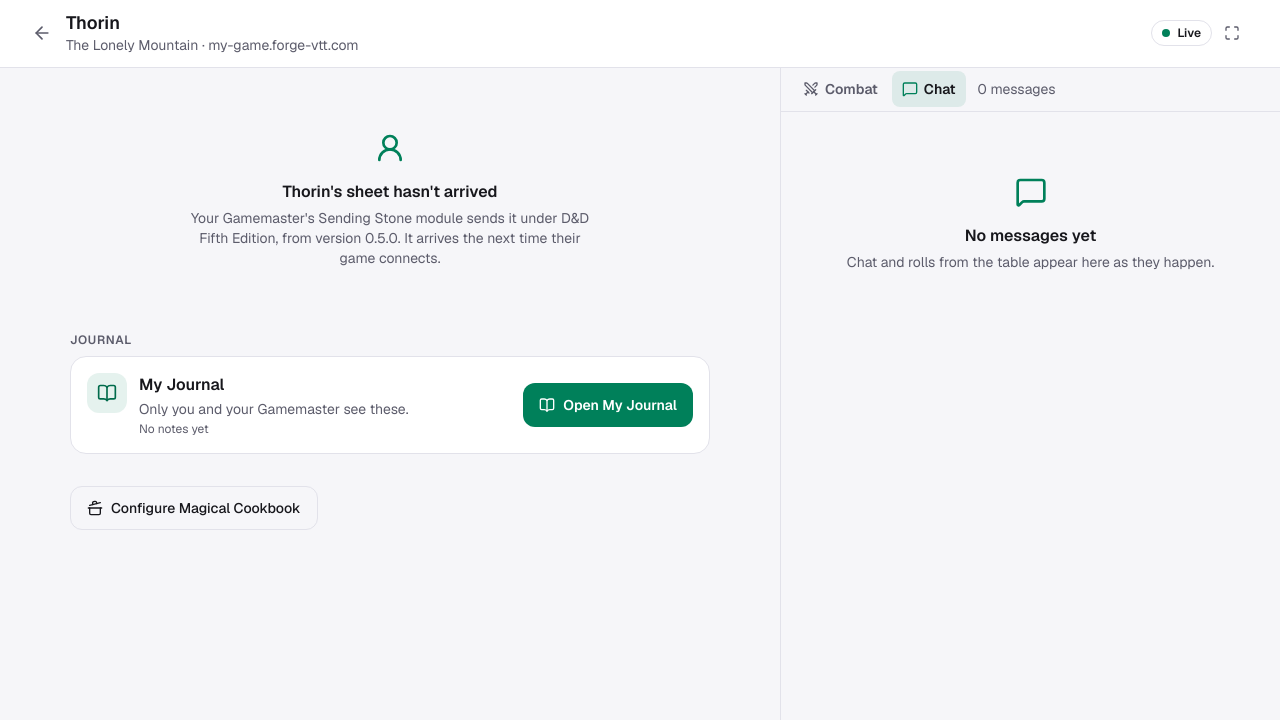
Test: components/game-table, the Magical Recipe Book (module 0.38.0), from the cog since round 0.39.0 › keeps the modal the no-sheet button opens open after a revoke while the game takes no dishes, on its off line with no Make button
The width and height of the screenshot is (1280, 720).
Click the button "Configure Magical Cookbook" at (194, 508), box [70, 486, 318, 530]
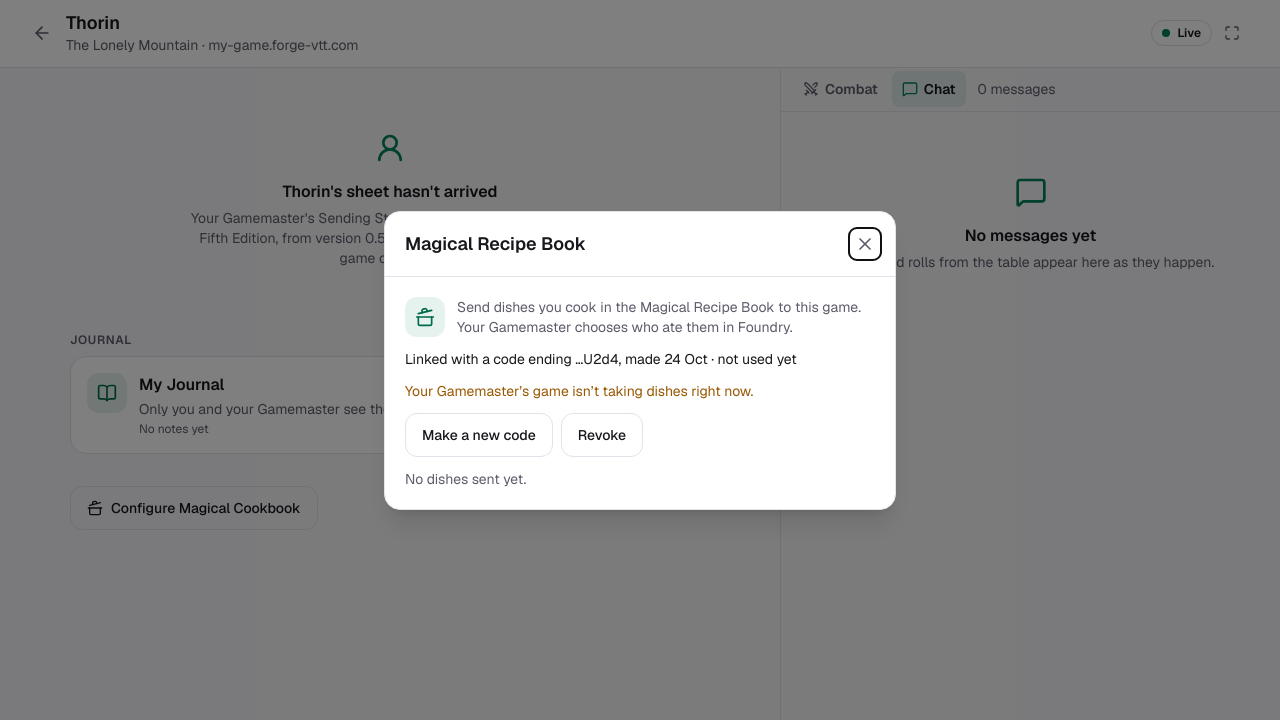
Click the button "Revoke" at (602, 434), box [561, 412, 643, 456]
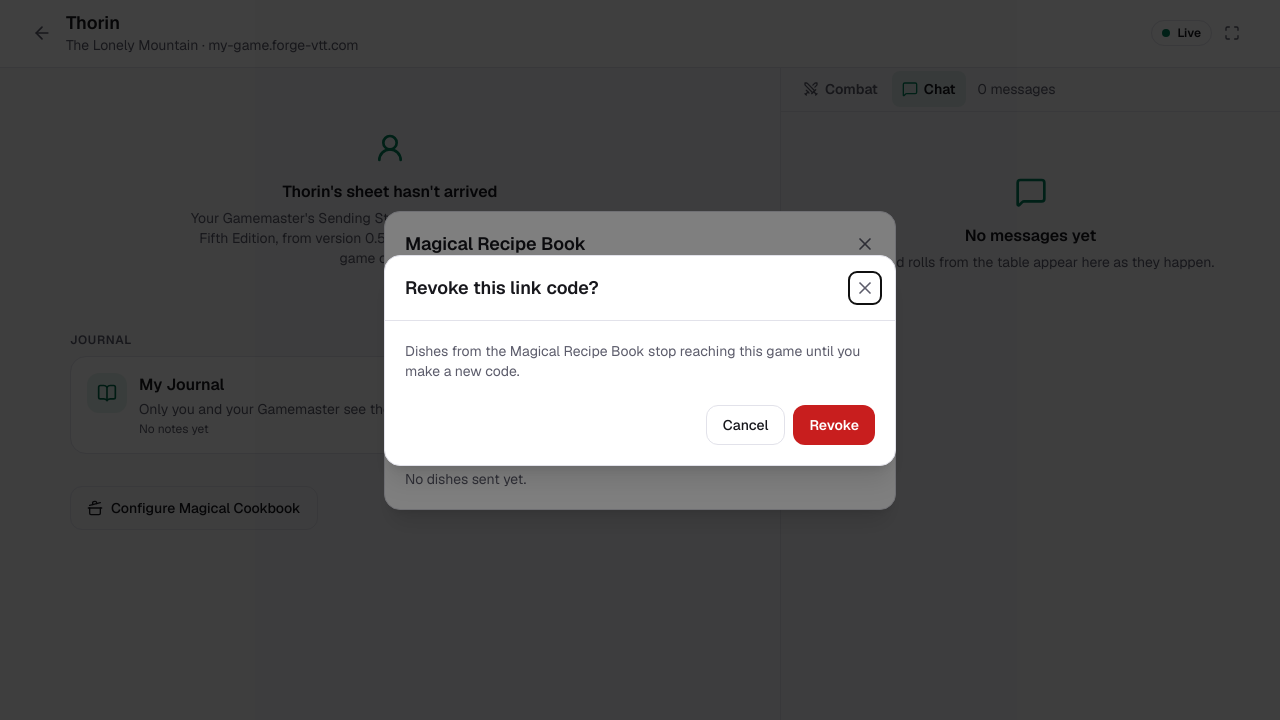
Click the button "Revoke" below "Revoke this link code?" at (834, 424), box [793, 404, 875, 444]
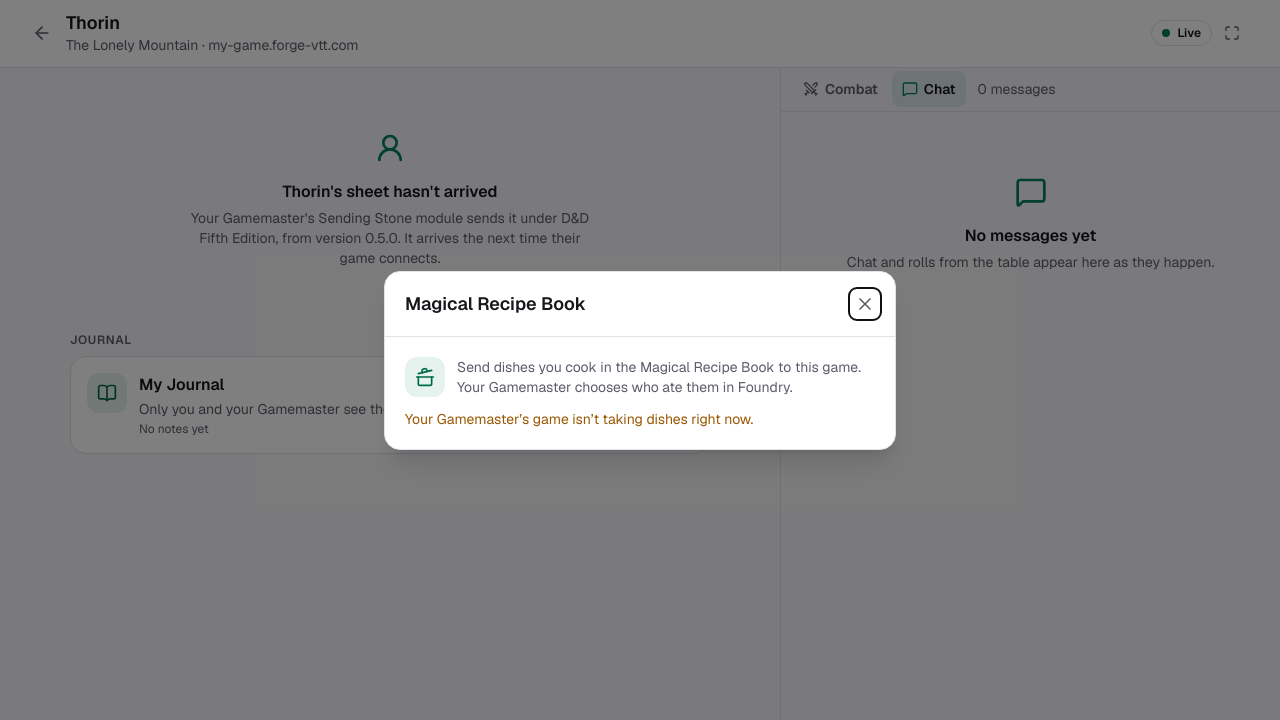
expect the dialog "Magical Recipe Book" shows "Your Gamemaster’s game isn’t taking dishes right now.": met, box [405, 410, 753, 428]
expect the dialog "Magical Recipe Book" no longer shows "Linked with": met, box [384, 270, 896, 450]
